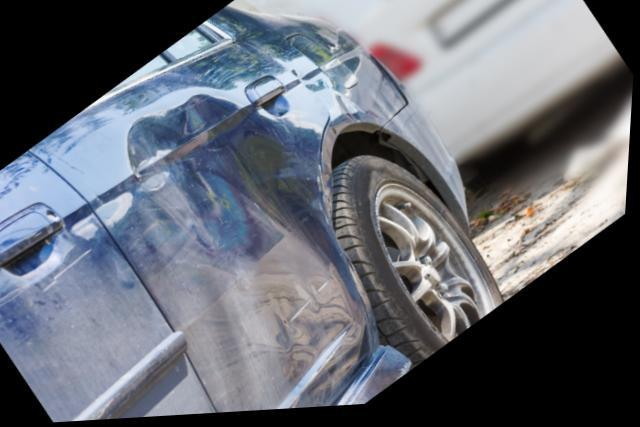dent: (129, 97, 371, 414)
